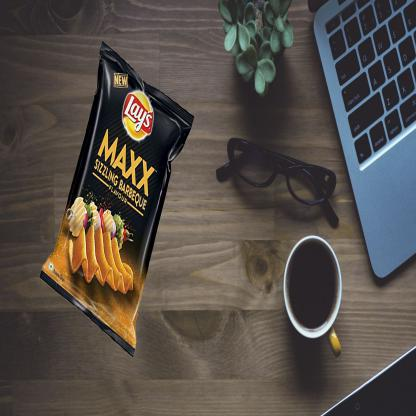maxx_sizzling_barbeque: (43, 20, 187, 359)
